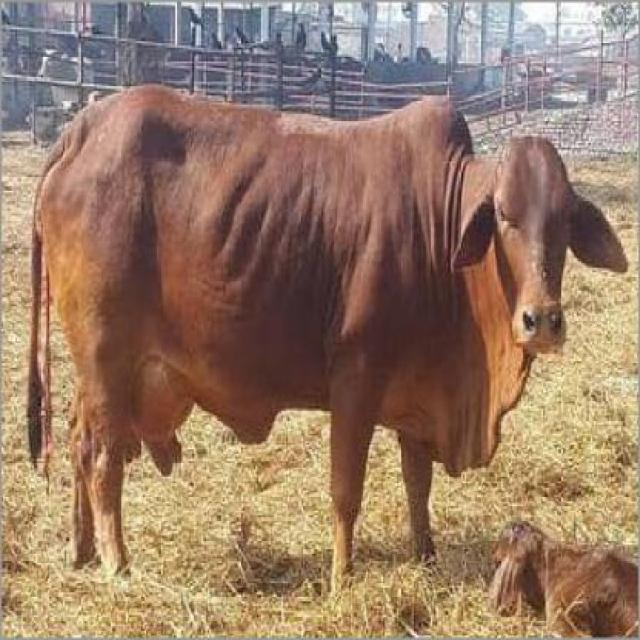Cow: (21, 94, 624, 577)
